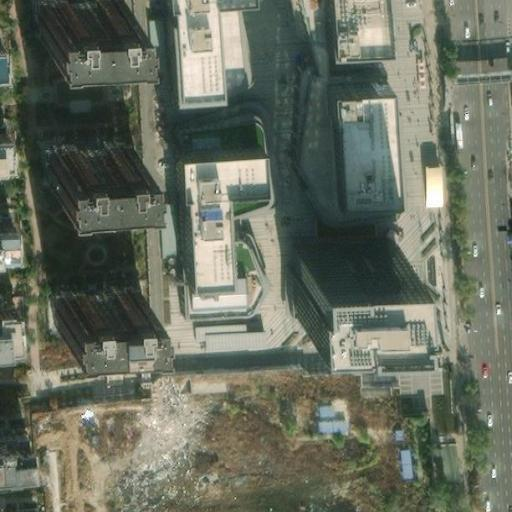building: (175, 163, 267, 302), (286, 245, 389, 323), (328, 103, 393, 221), (183, 236, 260, 320), (156, 0, 208, 82), (46, 280, 137, 320), (38, 131, 126, 171), (315, 0, 378, 39), (34, 0, 125, 24), (422, 163, 444, 205), (0, 497, 37, 512), (0, 43, 12, 79)
